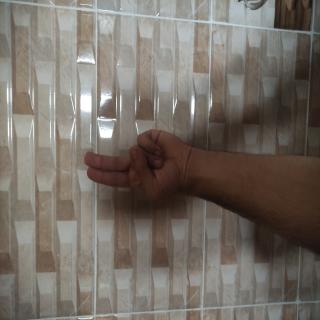TA: (82, 106, 152, 258)
